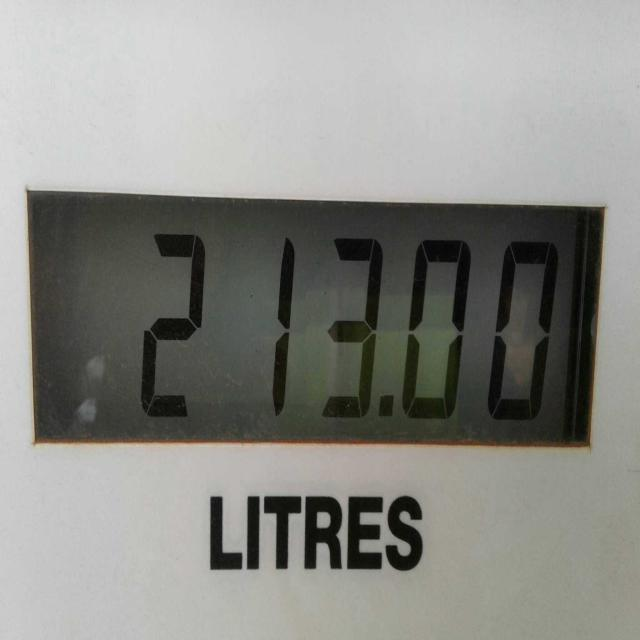.: (378, 370, 402, 428)
0: (396, 223, 492, 428), (484, 231, 562, 422)
2: (142, 234, 210, 428)
3: (326, 227, 402, 426)
8: (253, 224, 317, 420)
